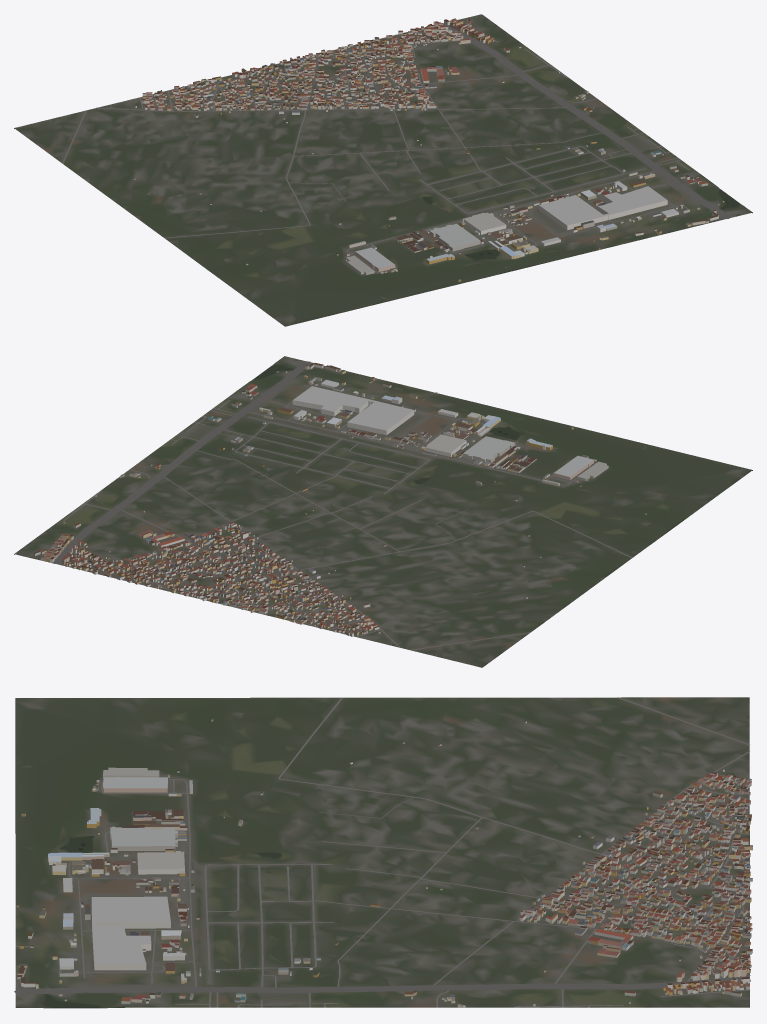
3 renders of one model, top to bottom at view 1: azimuth 30°, elevation 25°; view 2: azimuth 150°, elevation 25°; view 3: azimuth 270°, elevation 25°, orthographic. The views are drawn at different scales.
Parts seen in each view (by area): view 1: ground, buildings, roads; view 2: ground, buildings, roads; view 3: ground, buildings, roads, water.
Part boxes in pixels (x1=…): ground: x1=14, y1=14, x2=752, y2=326; buildings: x1=133, y1=18, x2=724, y2=281; roads: x1=62, y1=23, x2=733, y2=272; ground: x1=14, y1=356, x2=752, y2=667; buildings: x1=33, y1=363, x2=646, y2=636; roads: x1=40, y1=361, x2=632, y2=650; ground: x1=15, y1=697, x2=749, y2=1008; buildings: x1=16, y1=718, x2=752, y2=1007; roads: x1=14, y1=697, x2=750, y2=1007; water: x1=45, y1=836, x2=281, y2=1007.
Bounding box in the file's own units: 1401 × 20.62 × 1411.
